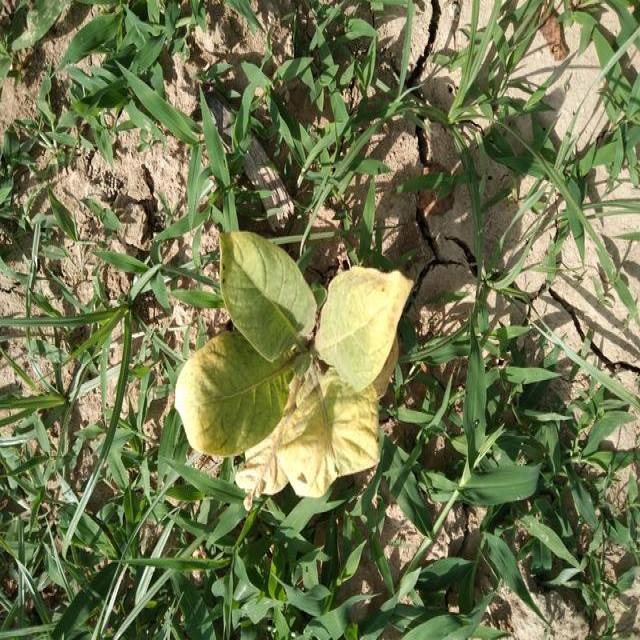crop: (172, 218, 407, 505)
